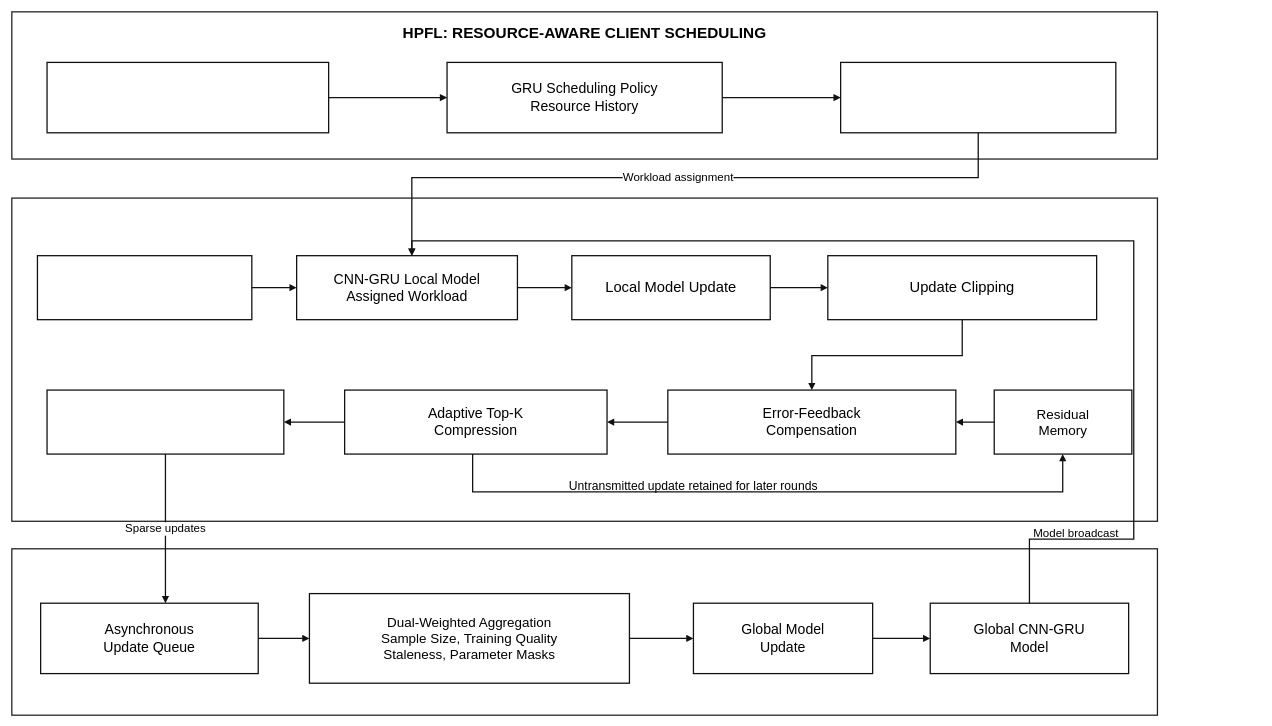
This 1272x726 diagram has some shape labels left out. The box of each missing label's shape, as (x1, y1, x2, y2) in pixels:
CENTRAL PARAMETER SERVER: (11, 548, 1158, 716)
Client Resource State Compute, Bandwidth, Energy: (46, 61, 329, 133)
EDGE CLIENT: LOCAL TRAINING AND SPARSE UPDATE PROCESSING: (11, 197, 1158, 522)
Private Local Dataset Remains on Device: (36, 255, 252, 320)
Sparse Update Payload Indices and Values: (46, 389, 284, 454)
Training Workload Light, Medium, Full: (840, 61, 1116, 133)
